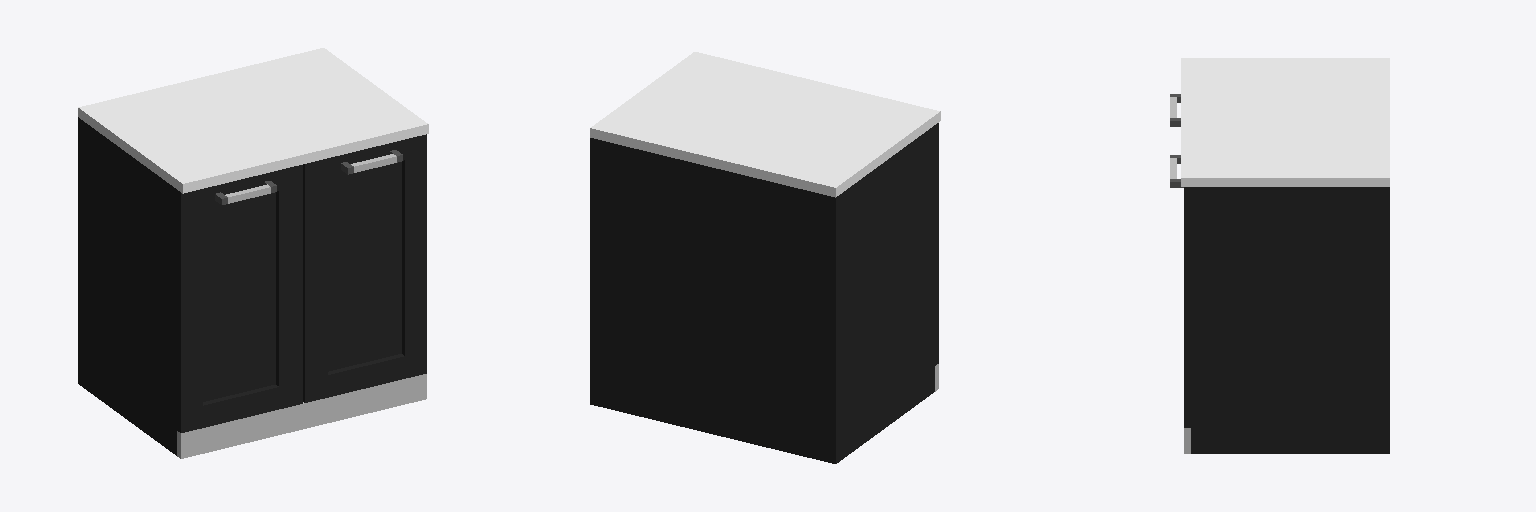
Rendered from cabinet.obj.
The picture shows the model from 3 angles: view 1: azimuth 30°, elevation 25°; view 2: azimuth 150°, elevation 25°; view 3: azimuth 270°, elevation 25°; orthographic projection.
Parts seen in each view (by area): view 1: 113, 65, 49, 57, 1; view 2: 113, 49, 65; view 3: 113, 49, 65.
Part boxes in pixels (x1,y1,x2,y2): 113: (78,117,401,455); 65: (177,134,426,432); 49: (78,48,428,193); 57: (177,374,426,458); 1: (225,154,396,203); 113: (590,125,934,463); 49: (590,52,940,197); 65: (935,123,938,365); 113: (1191,187,1389,453); 49: (1181,58,1389,186); 65: (1184,187,1190,427).
Size of the model in its own units: 80 by 86 by 62.